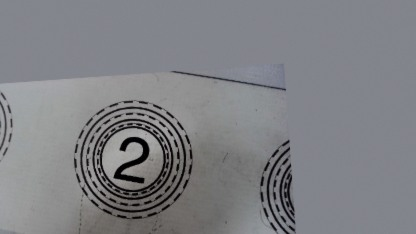2r: (65, 96, 198, 224)
